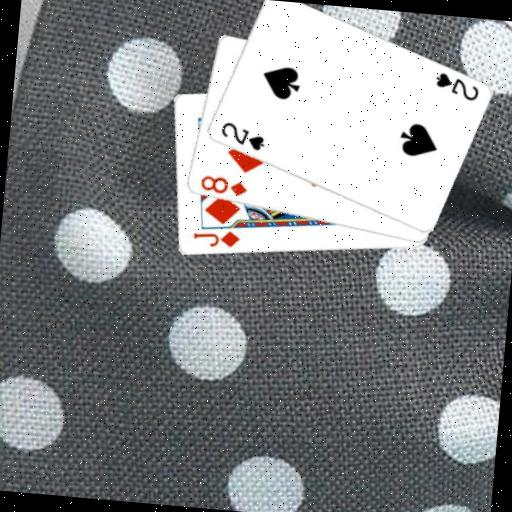2S: (217, 119, 268, 154), (431, 69, 482, 104)
8D: (197, 172, 250, 198)
JD: (189, 225, 242, 251)
